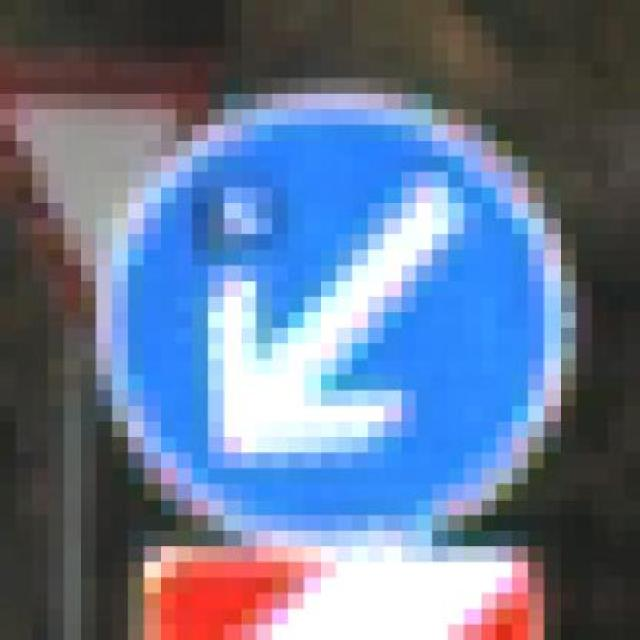Keep-Left: (95, 94, 592, 546)
